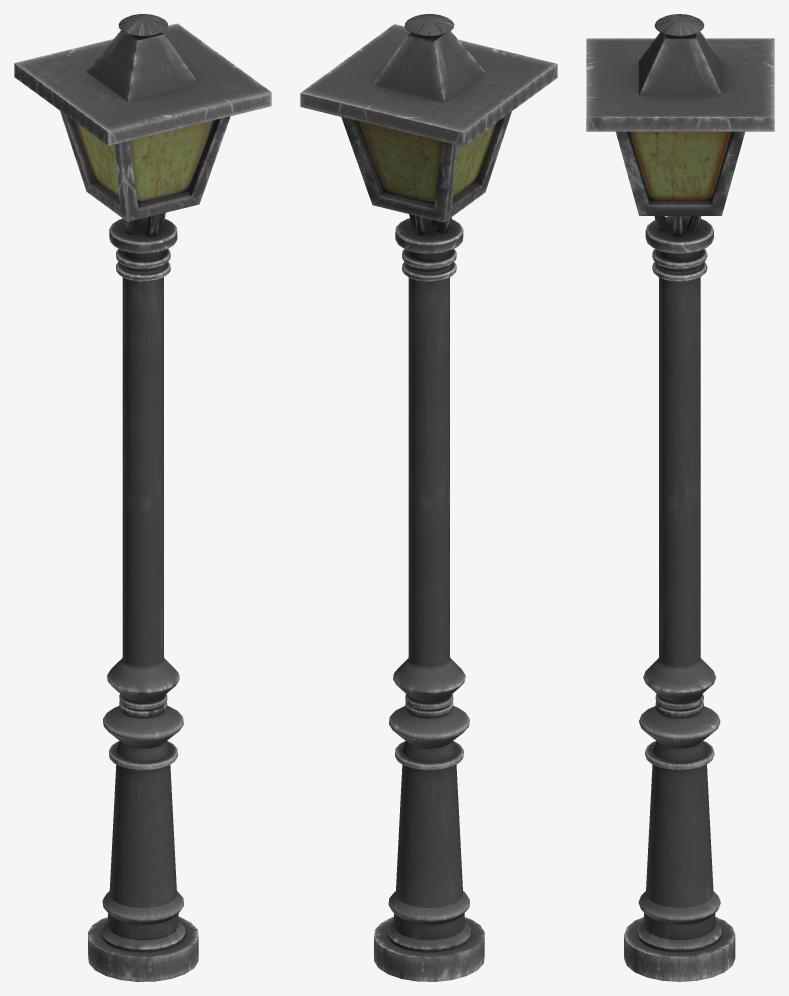
File: Lamp.fbx
3 views of the same model, side by side, from view 1: azimuth 30°, elevation 25°; view 2: azimuth 150°, elevation 25°; view 3: azimuth 270°, elevation 25° (orthographic).
Parts seen in each view (by area): view 1: Object_2; view 2: Object_2; view 3: Object_2.
Part boxes in pixels (x1,y1,x2,y2): Object_2: (14,14,271,981); Object_2: (300,14,557,981); Object_2: (586,14,774,981).
Size of the model in its own units: 286 by 1571 by 286.
Materials: 1 (1 with a texture image).
